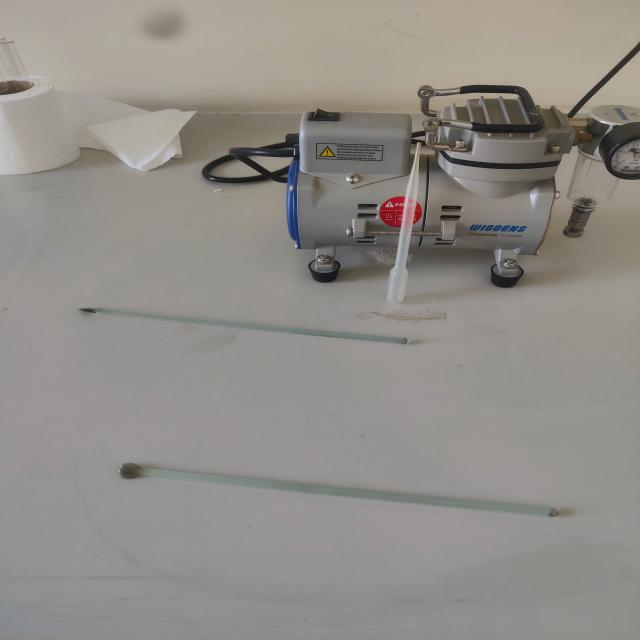Glass_Rod: (88, 434, 603, 558), (49, 280, 428, 381)
Pipette: (365, 119, 441, 316)
